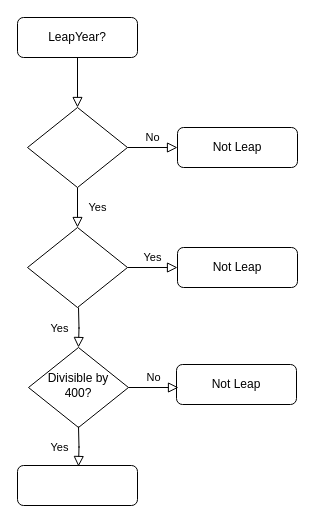
This 315x523 diagram has some shape labels left out. The centre of each missing label's shape, as x and y in pixels:
Divisible by 100?: point (77, 267)
Divisible by 4?: point (77, 147)
Leap!: point (77, 485)
